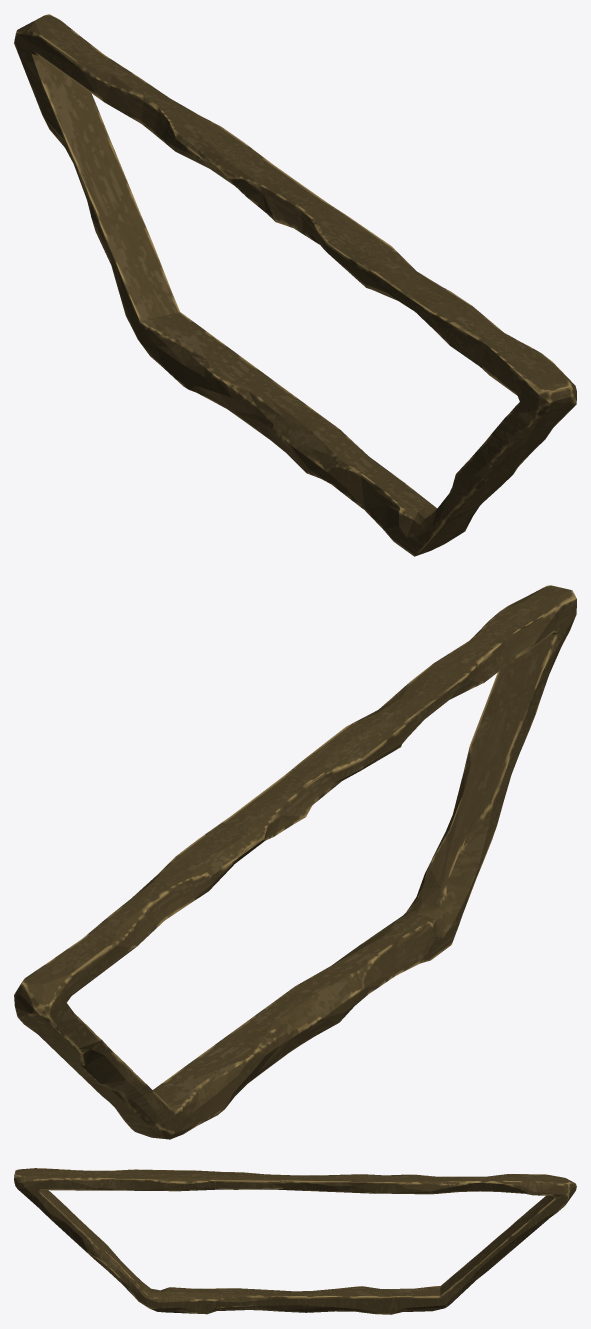
File: Beam.fbx
The picture shows the model from 3 angles, top to bottom: view 1: azimuth 30°, elevation 25°; view 2: azimuth 150°, elevation 25°; view 3: azimuth 270°, elevation 25°; orthographic projection. The views are drawn at different scales.
Parts seen in each view (by area): view 1: Cylinder.003; view 2: Cylinder.003; view 3: Cylinder.003.
Boxes of the visible parts, x1=… form: Cylinder.003: x1=14, y1=14, x2=576, y2=556; Cylinder.003: x1=14, y1=585, x2=576, y2=1139; Cylinder.003: x1=14, y1=1168, x2=576, y2=1314.
Bounding box in the file's own units: 78.98 × 469 × 1742.
